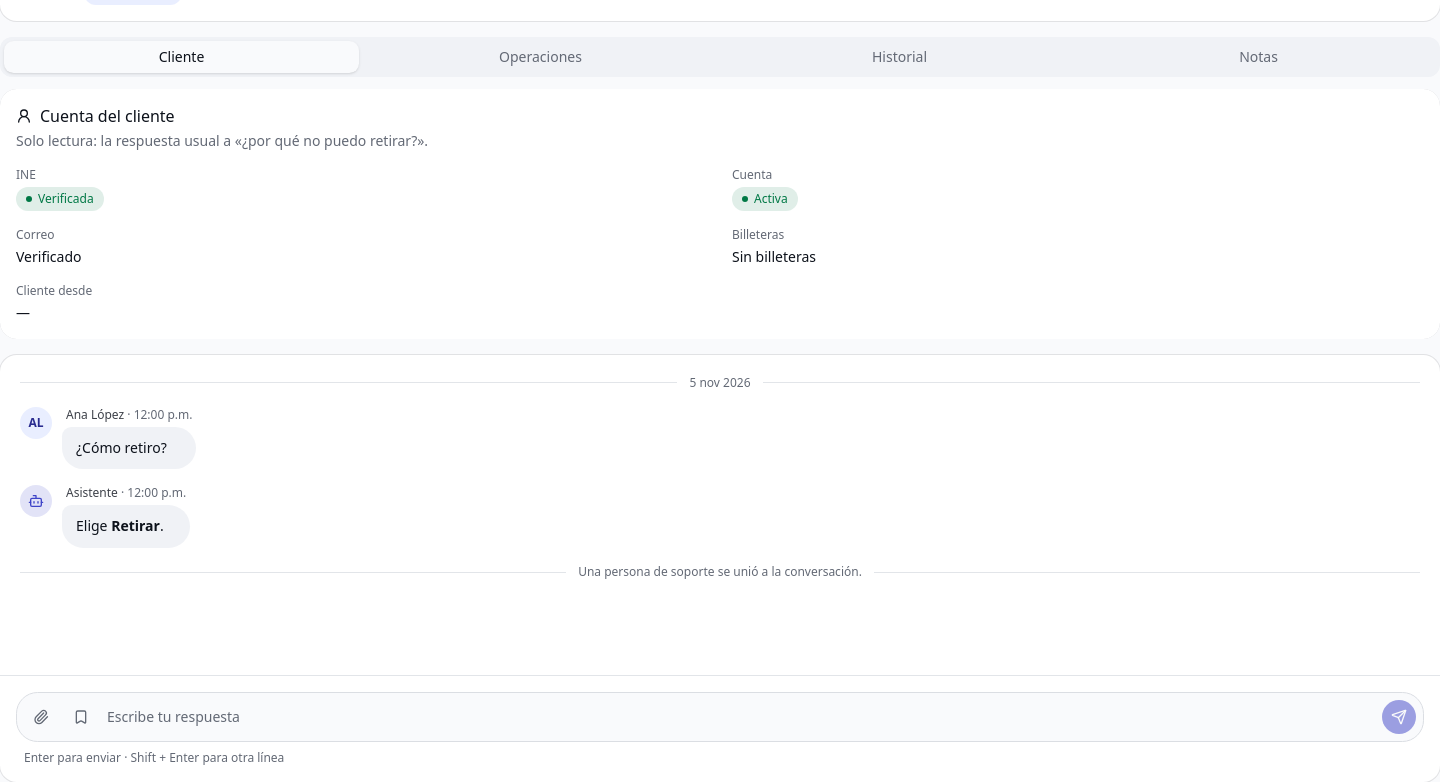
SupportInboxPage › replies
(page scrolled)
Type "Ya lo reviso" into the text box named "Mensaje" at [740, 716], box [103, 698, 1377, 734]
Then press Enter
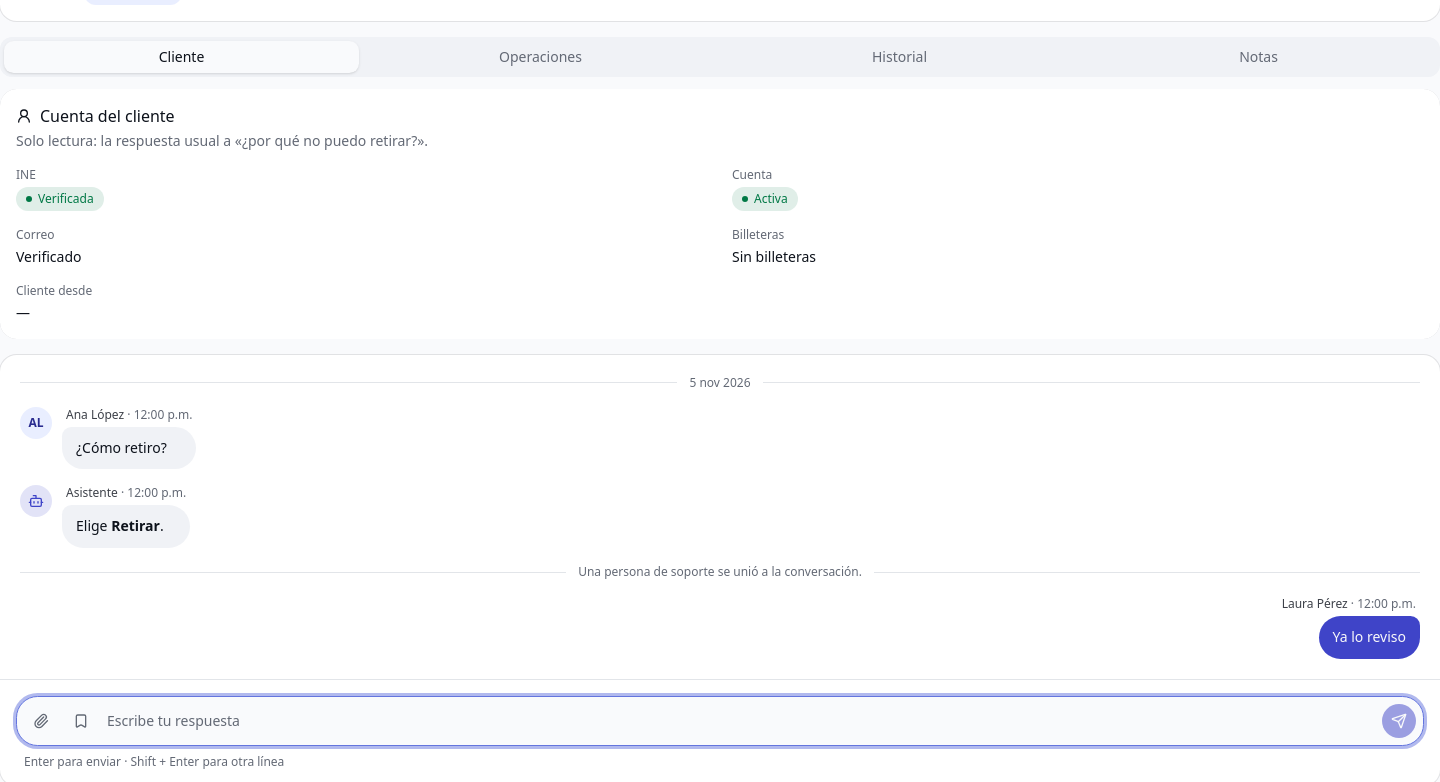
Now the text "Ya lo reviso" is shown, box [1332, 626, 1406, 649]
